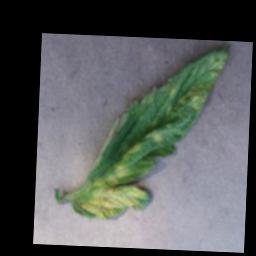Leaf_Mold: (77, 160, 154, 222)
